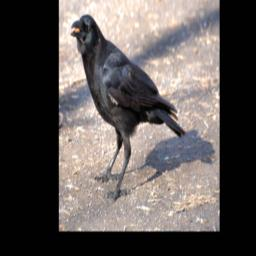Crow: (70, 12, 186, 202)
